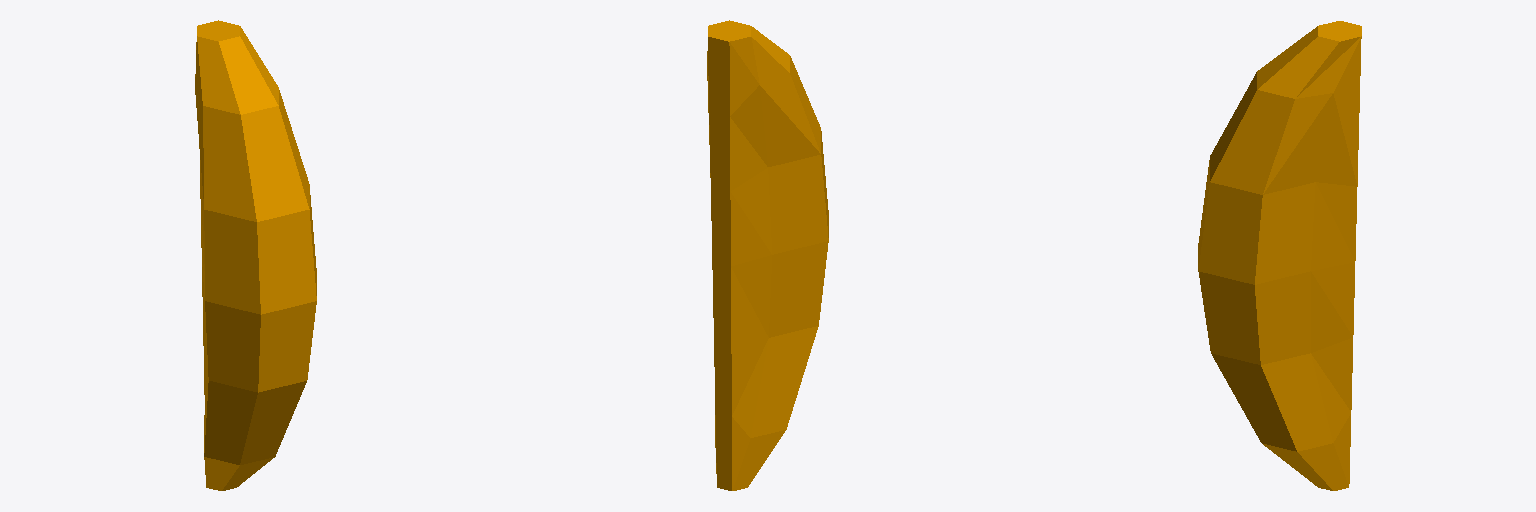
URDF robot description (bananaPeel):
<?xml version="1.0"?>
<robot name="bananaPeel">
  <link name="peel">
    <inertial>
        <origin rpy="0 0 0" xyz="0 0 0"/>
        <mass value="0.03"/>
        <inertia ixx="4.4e-5" ixy="0" ixz="0" iyy="0" iyz="0" izz="4.4e-5"/>
    </inertial>
    <visual>
      <geometry>
        <mesh filename="bananaPeel.obj"/>
      </geometry>
    </visual>
    <collision>
      <geometry>
        <mesh filename="bananaPeel.obj"/>
      </geometry>
      <surface>
           <bounce restitution_coefficient = "0.1"/>
      </surface>
    </collision>
  </link>
</robot>

--- Facts derived from the render (not from the file) ---
Views: 3 orthographic renders of the robot side by side, from view 1: azimuth 30°, elevation 25°; view 2: azimuth 150°, elevation 25°; view 3: azimuth 270°, elevation 25°.
Model bananaPeel with 1 links and 0 joints (none), rooted at peel, posed every joint at zero.
Links seen in each view (by area): view 1: peel; view 2: peel; view 3: peel.
Link boxes in pixels (x1,y1,x2,y2): peel: (195,20,316,490); peel: (707,20,828,490); peel: (1198,21,1361,490).
Bounding box of the posed robot: 0.1376 × 0.1729 × 0.5296 m (x, y, z).
Meshes: 1 distinct files referenced, 1 mesh visuals loaded (1 OBJ).
